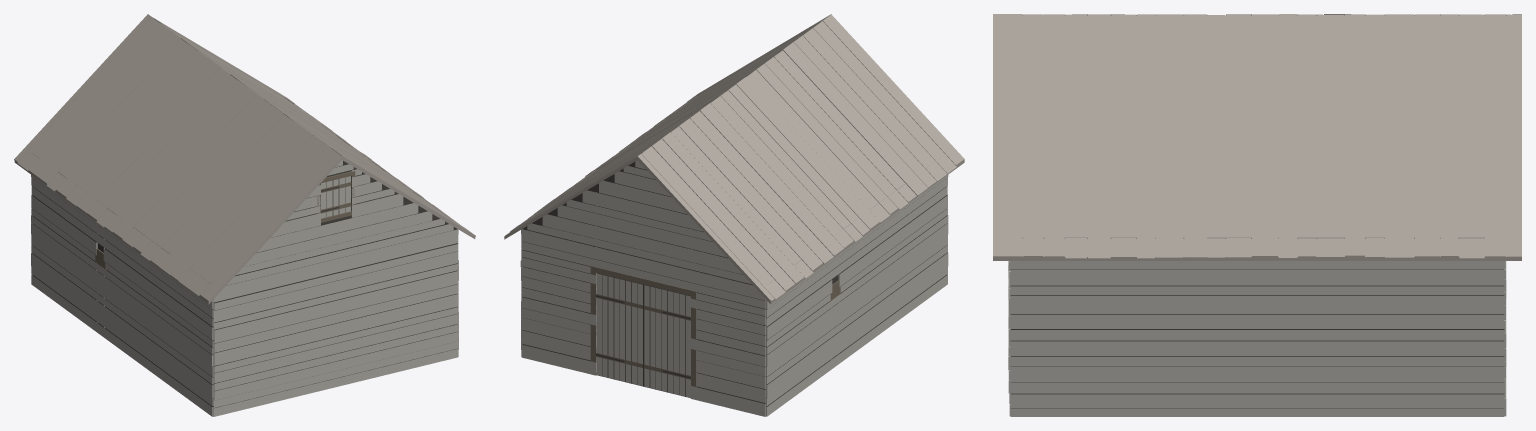
File: recon_1835_north_a2_098__inferred_1835.glb
3 views of the same model, side by side, from view 1: azimuth 30°, elevation 25°; view 2: azimuth 150°, elevation 25°; view 3: azimuth 270°, elevation 25° (orthographic). The views are drawn at different scales.
Parts seen in each view (by area): view 1: recon_1835_north_a2_098__inferred_1835; view 2: recon_1835_north_a2_098__inferred_1835; view 3: recon_1835_north_a2_098__inferred_1835.
Part boxes in pixels (<box>): recon_1835_north_a2_098__inferred_1835: <box>14,14,475,416</box>; recon_1835_north_a2_098__inferred_1835: <box>504,14,964,416</box>; recon_1835_north_a2_098__inferred_1835: <box>993,14,1521,416</box>.
Size of the model in its own units: 8.23 by 6.88 by 10.26.
